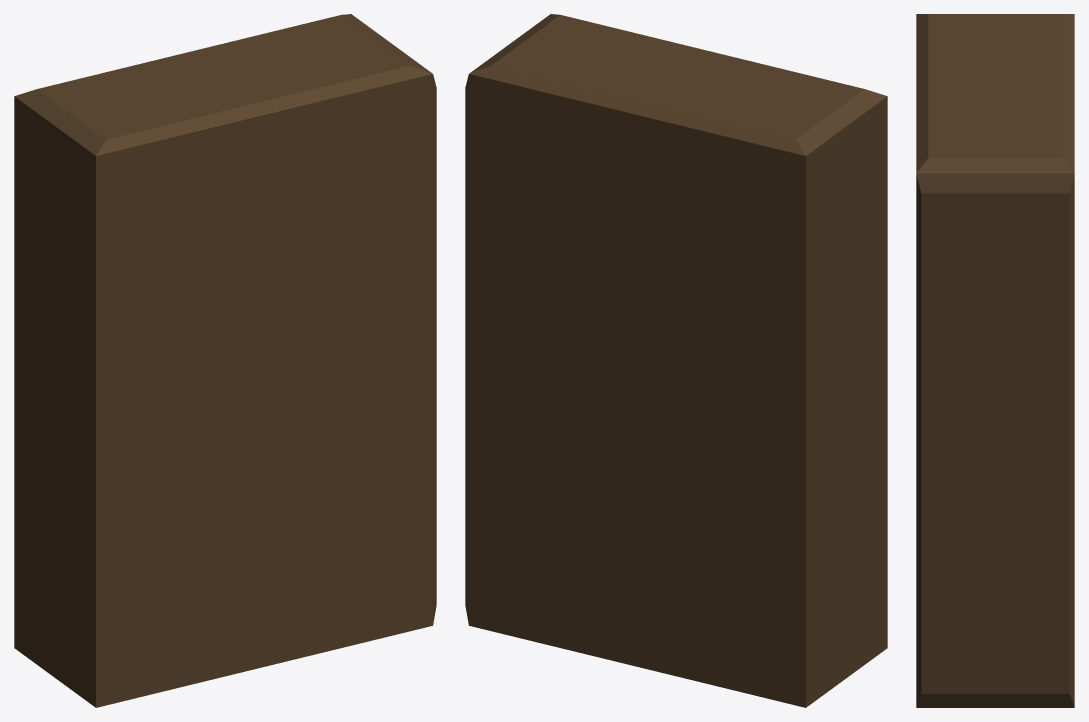
File: Itr_Couch_Inside_Back_04.FBX
The picture shows the model from 3 angles, left to right: view 1: azimuth 30°, elevation 25°; view 2: azimuth 150°, elevation 25°; view 3: azimuth 270°, elevation 25°; orthographic projection. The views are drawn at different scales.
Visible parts, largest first — view 1: Itr_Couch_Inside_Back_04; view 2: Itr_Couch_Inside_Back_04; view 3: Itr_Couch_Inside_Back_04.
Boxes of the visible parts, box(x1,y1,x2,y2) form: Itr_Couch_Inside_Back_04: box(14, 14, 436, 707); Itr_Couch_Inside_Back_04: box(465, 14, 887, 707); Itr_Couch_Inside_Back_04: box(916, 14, 1074, 707).
Bounding box in the file's own units: 18.9 × 29.45 × 7.8.
